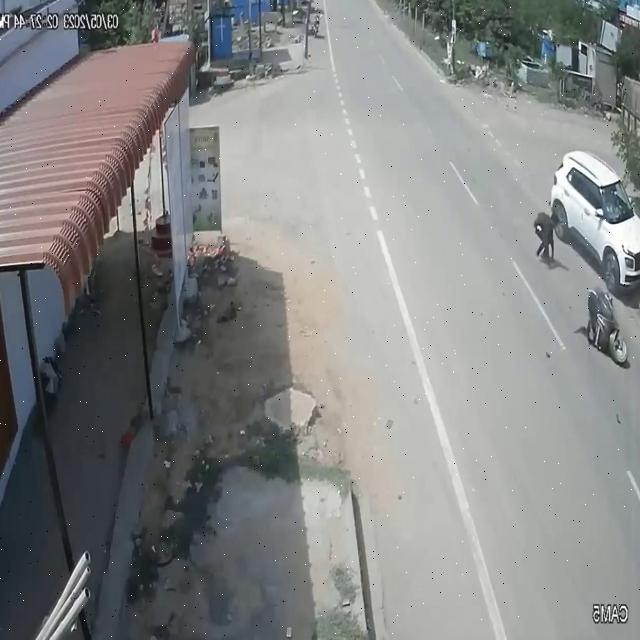accident: (525, 136, 640, 371)
